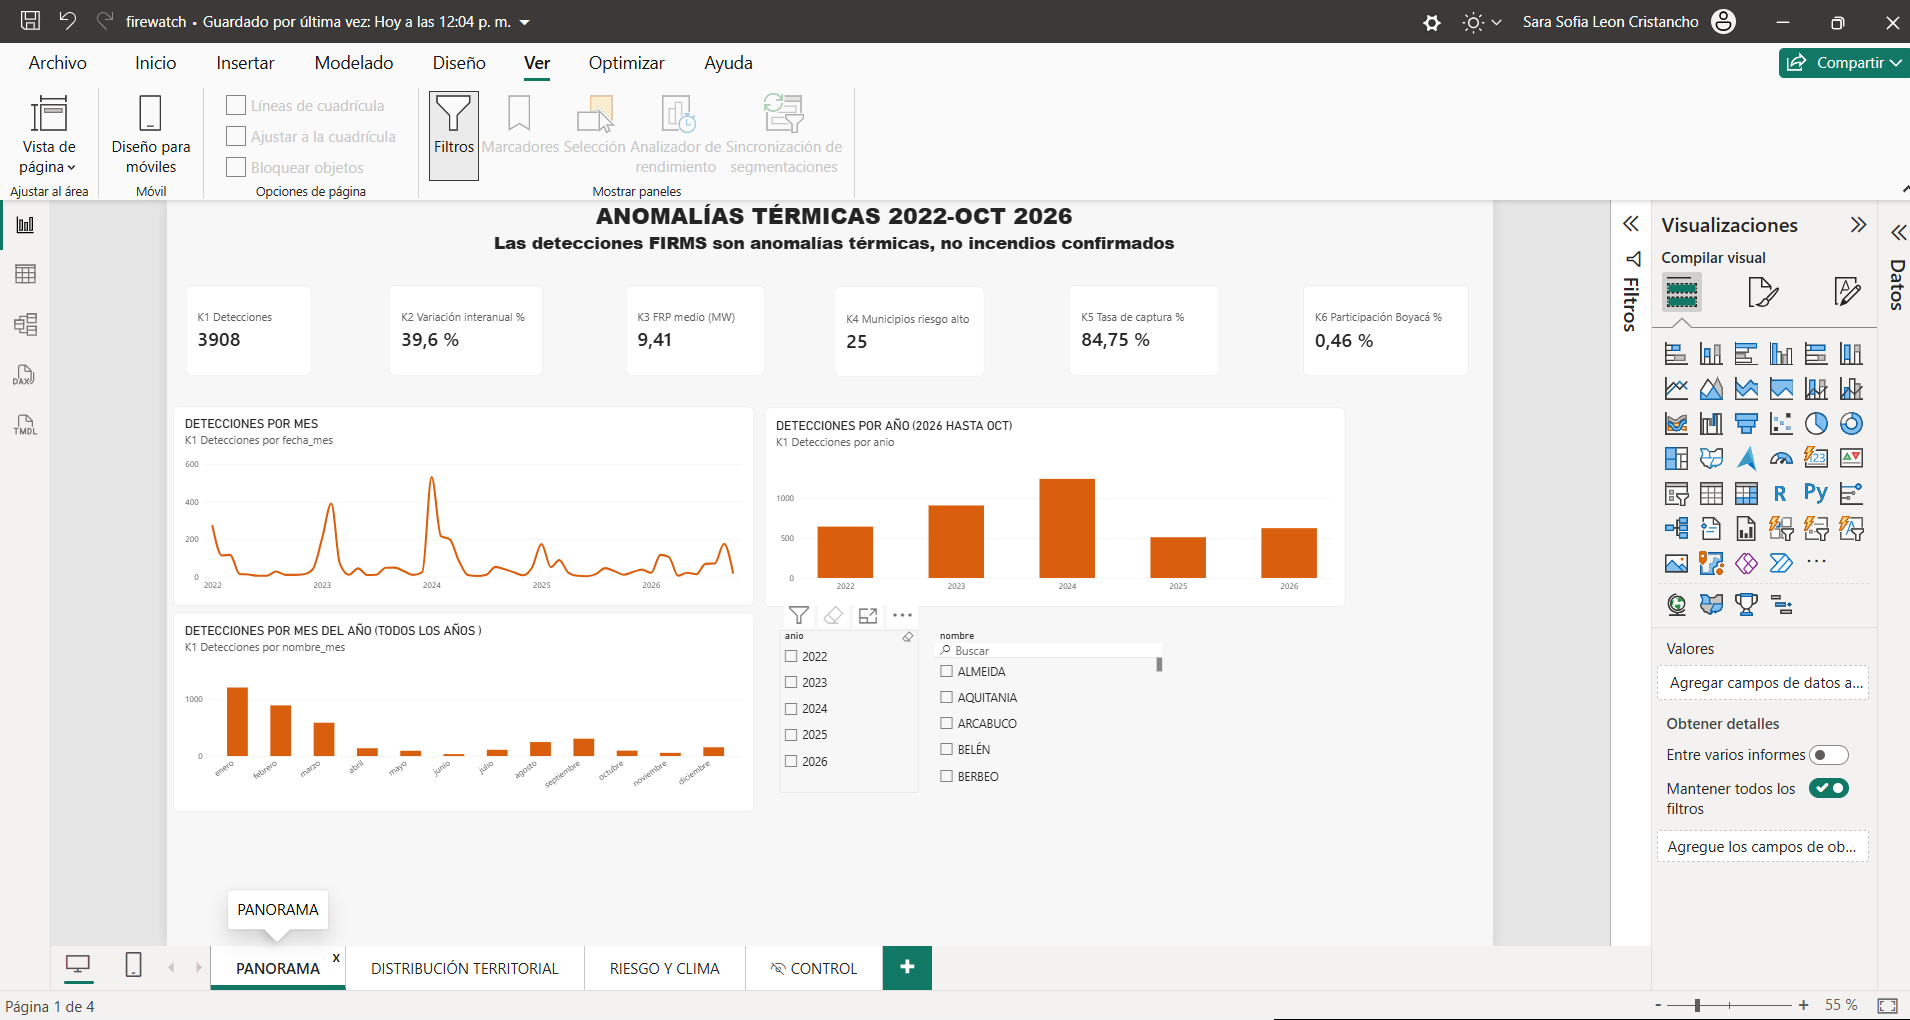

What the dashboard file says about the page in this screenshot:
{"tool":"powerbi","page":{"name":"PANORAMA","canvas":[1920,1080],"ordinal":0},"visuals":[{"type":"textbox","box":[10,0,1910,288.6],"z":0},{"type":"cardVisual","fields":{"Data":["_Medidas.K1 Detecciones"]},"box":[26.8,122.7,182.5,132],"z":1000},{"type":"cardVisual","fields":{"Data":["_Medidas.K2 Variación interanual %"]},"box":[322.9,122.9,222.7,132],"z":2000},{"type":"cardVisual","fields":{"Data":["_Medidas.K3 FRP medio (MW)"]},"box":[664.1,123.4,201,132],"z":3000},{"type":"cardVisual","fields":{"Data":["_Medidas.K4 Municipios riesgo alto"]},"box":[965.7,124.3,217.5,132],"z":4000},{"type":"cardVisual","fields":{"Data":["_Medidas.K5 Tasa de captura %"]},"box":[1307.1,122.9,217.5,132],"z":5000},{"type":"cardVisual","fields":{"Data":["_Medidas.K6 Participación Boyacá %"]},"box":[1645.7,122.9,240,132.5],"z":6000},{"type":"lineChart","title":"DETECCIONES POR MES","fields":{"Category":["dim_mes.fecha_mes"],"Y":["_Medidas.K1 Detecciones"]},"box":[9.4,298.4,840.6,289.1],"z":7000},{"type":"columnChart","title":"DETECCIONES POR AÑO (2026 HASTA  OCT)","fields":{"Category":["dim_mes.anio"],"Y":["_Medidas.K1 Detecciones"]},"box":[865.6,300,841,289],"z":8000},{"type":"columnChart","title":"DETECCIONES POR MES DEL AÑO (TODOS LOS AÑOS )","fields":{"Category":["dim_mes.nombre_mes"],"Y":["_Medidas.K1 Detecciones"]},"box":[9,597,841,289],"z":9000},{"type":"slicer","fields":{"Values":["dim_mes.anio"]},"box":[886,622,202,236],"z":10000},{"type":"slicer","fields":{"Values":["dim_municipio.nombre"]},"box":[1111.8,622.1,329.4,222.1],"z":11000}]}

Visuals, with their boxes on the page's 1920x1080 design canvas (x1, y1, x2, y2). These are canvas units, not pixel positions in the 1910x1020 screenshot, which may show the page scaled, cropped or inside an application window:
textbox: BBox(10, 0, 1920, 289)
cardVisual - _Medidas.K1 Detecciones: BBox(27, 123, 209, 255)
cardVisual - _Medidas.K2 Variación interanual %: BBox(323, 123, 546, 255)
cardVisual - _Medidas.K3 FRP medio (MW): BBox(664, 123, 865, 255)
cardVisual - _Medidas.K4 Municipios riesgo alto: BBox(966, 124, 1183, 256)
cardVisual - _Medidas.K5 Tasa de captura %: BBox(1307, 123, 1525, 255)
cardVisual - _Medidas.K6 Participación Boyacá %: BBox(1646, 123, 1886, 255)
"DETECCIONES POR MES" lineChart: BBox(9, 298, 850, 588)
"DETECCIONES POR AÑO (2026 HASTA  OCT)" columnChart: BBox(866, 300, 1707, 589)
"DETECCIONES POR MES DEL AÑO (TODOS LOS AÑOS )" columnChart: BBox(9, 597, 850, 886)
slicer - dim_mes.anio: BBox(886, 622, 1088, 858)
slicer - dim_municipio.nombre: BBox(1112, 622, 1441, 844)
